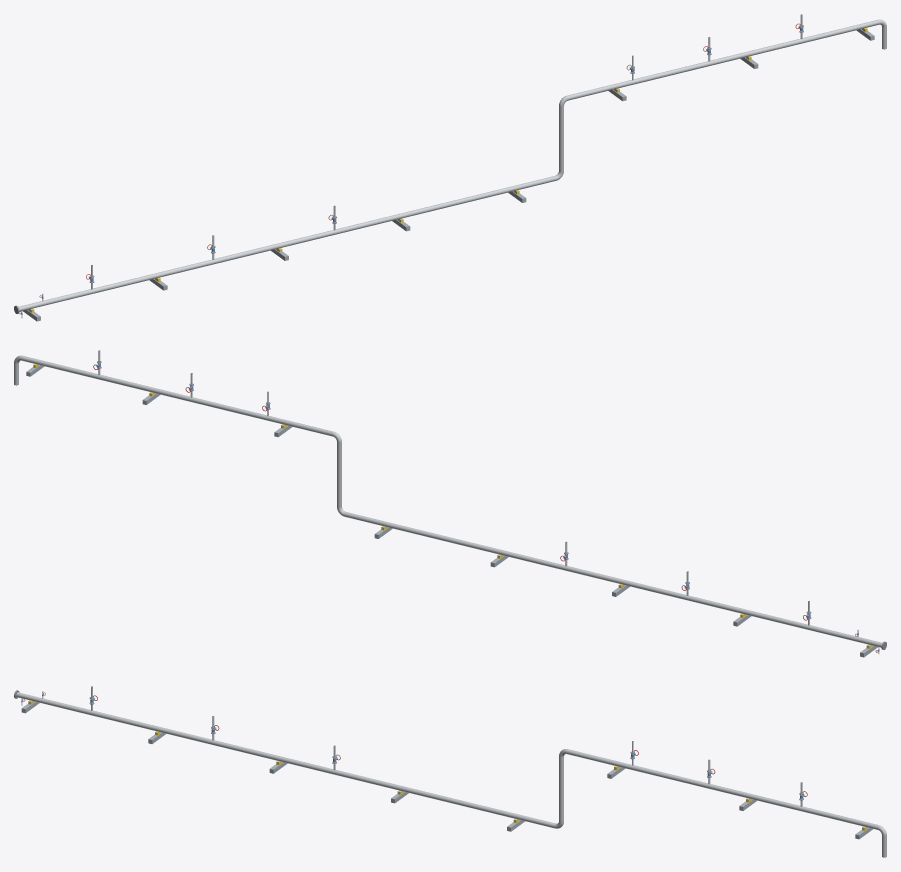
File: CWR-00011.glb
The picture shows the model from 3 angles, top to bottom: view 1: azimuth 30°, elevation 25°; view 2: azimuth 150°, elevation 25°; view 3: azimuth 330°, elevation 25°; orthographic projection.
Visible parts, largest first — view 1: pipe, steel; view 2: pipe, steel; view 3: pipe, steel.
Boxes of the visible parts, box(x1,y1,x2,y2) form: pipe: box(18, 14, 886, 317); steel: box(20, 26, 874, 321); pipe: box(14, 350, 882, 653); steel: box(26, 365, 877, 657); pipe: box(16, 686, 886, 857); steel: box(21, 694, 872, 839).
Bounding box in the file's own units: 33 × 4.09 × 1.
